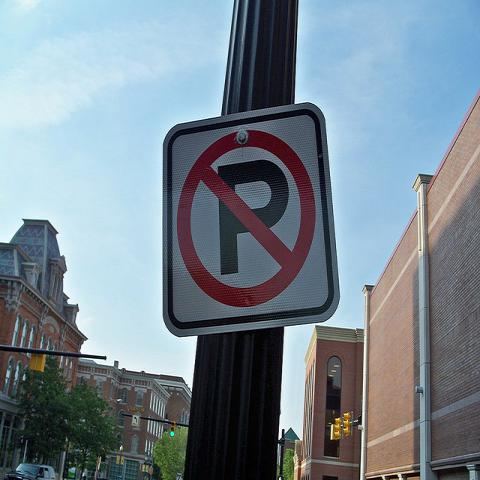car: (4, 462, 56, 480)
